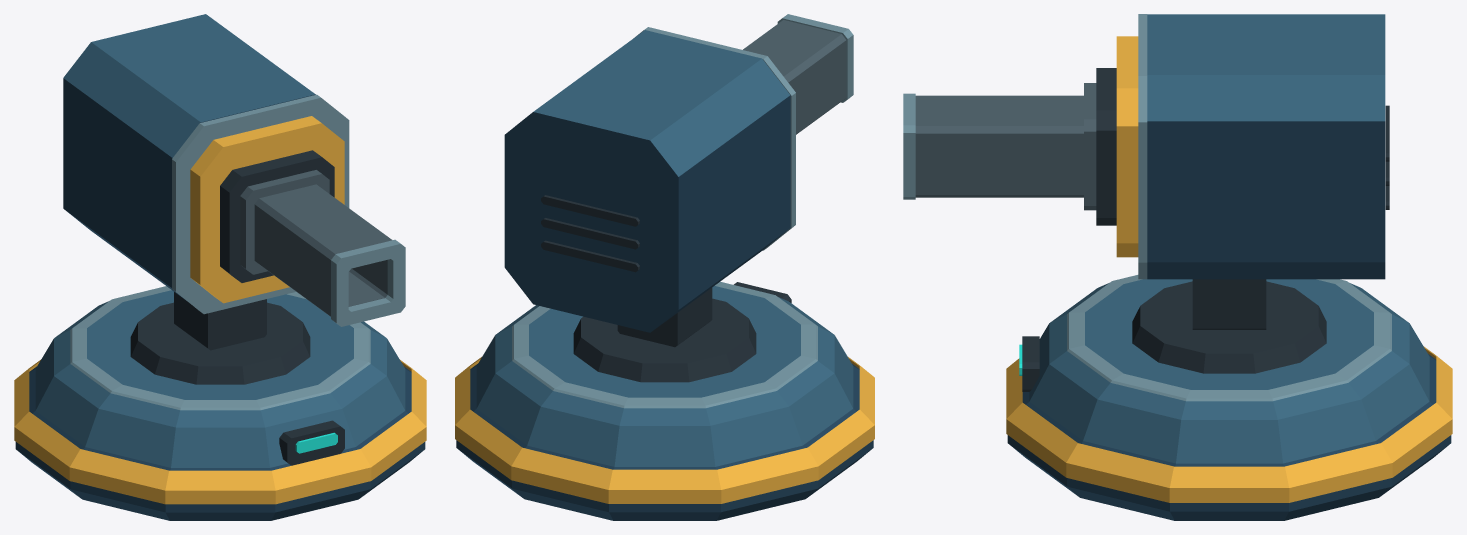
File: MG2Turret.obj
The picture shows the model from 3 angles, left to right: view 1: azimuth 30°, elevation 25°; view 2: azimuth 150°, elevation 25°; view 3: azimuth 270°, elevation 25°; orthographic projection. The views are drawn at different scales.
Visible parts, largest first — view 1: UpperPlinth, UpperArmor, GoldBelt, Housing, SquareBarrel, GoldMantlet, Turntable, FrontRim, Foundation, TopRim, Breech, MuzzleLip (+4 smaller); view 2: Housing, UpperPlinth, UpperArmor, GoldBelt, Turntable, Foundation, SquareBarrel, TopRim, Support, FrontRim, MuzzleLip, RearVent0 (+2 smaller); view 3: UpperPlinth, Housing, UpperArmor, GoldBelt, SquareBarrel, Turntable, Foundation, TopRim, GoldMantlet, Support, Breech, FrontRim (+3 smaller).
Part boxes in pixels (left/top/right/bottom): UpperPlinth: left=35, top=290, right=405, bottom=467; UpperArmor: left=63, top=14, right=315, bottom=157; GoldBelt: left=14, top=360, right=426, bottom=504; Housing: left=63, top=78, right=315, bottom=301; SquareBarrel: left=254, top=184, right=392, bottom=316; GoldMantlet: left=190, top=116, right=344, bottom=303; Turntable: left=130, top=302, right=310, bottom=384; FrontRim: left=172, top=94, right=349, bottom=314; Foundation: left=15, top=366, right=425, bottom=520; TopRim: left=70, top=286, right=370, bottom=410; Breech: left=220, top=150, right=334, bottom=282; MuzzleLip: left=331, top=239, right=405, bottom=326; Housing: left=504, top=95, right=790, bottom=332; UpperPlinth: left=476, top=286, right=853, bottom=466; UpperArmor: left=533, top=30, right=789, bottom=176; GoldBelt: left=455, top=357, right=874, bottom=503; Turntable: left=573, top=298, right=756, bottom=382; Foundation: left=456, top=364, right=873, bottom=520; SquareBarrel: left=743, top=20, right=846, bottom=134; TopRim: left=512, top=281, right=817, bottom=408; Support: left=617, top=287, right=712, bottom=347; FrontRim: left=636, top=27, right=795, bottom=250; MuzzleLip: left=777, top=14, right=853, bottom=102; RearVent0: left=541, top=240, right=639, bottom=272; UpperPlinth: left=1029, top=279, right=1429, bottom=463; Housing: left=1147, top=121, right=1385, bottom=279; UpperArmor: left=1147, top=14, right=1385, bottom=121; GoldBelt: left=1006, top=346, right=1452, bottom=502; SquareBarrel: left=915, top=95, right=1083, bottom=197; Turntable: left=1132, top=281, right=1326, bottom=373; Foundation: left=1007, top=354, right=1451, bottom=520; TopRim: left=1067, top=275, right=1391, bottom=401; GoldMantlet: left=1116, top=36, right=1138, bottom=257; Support: left=1192, top=279, right=1266, bottom=329; Breech: left=1096, top=68, right=1116, bottom=225; FrontRim: left=1138, top=14, right=1147, bottom=279.
Size of the model in its own units: 2.18 by 2.1 by 2.68.
